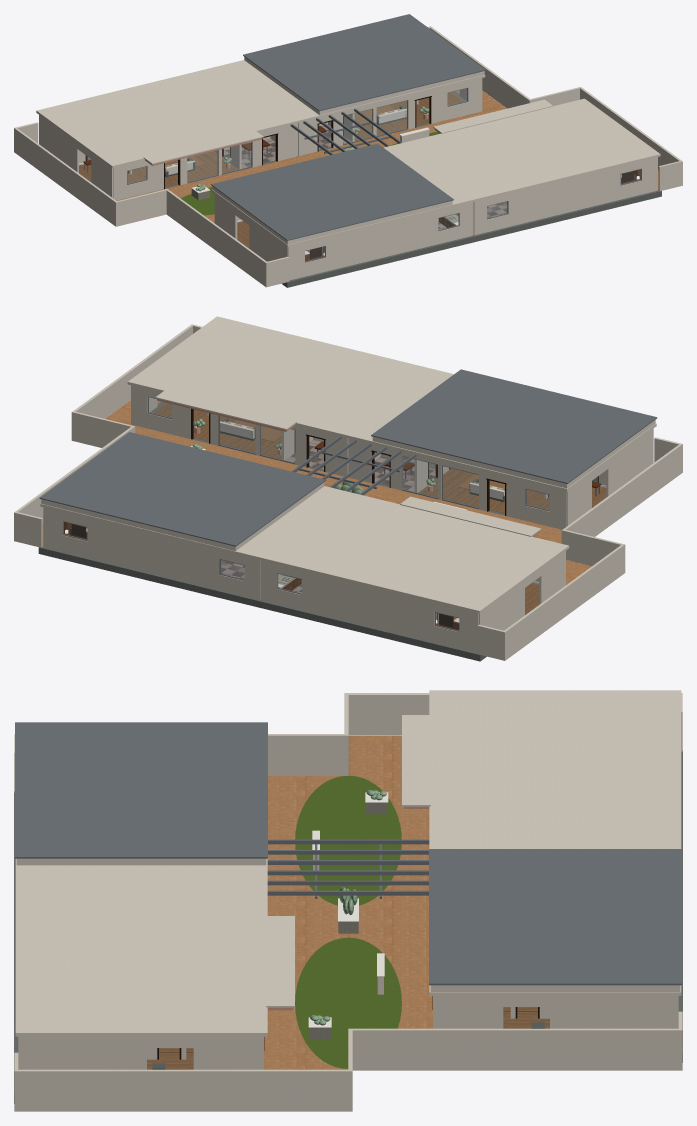
The model's file is casa_atlas_jardin.glb.
The picture shows the model from 3 angles, top to bottom: view 1: azimuth 30°, elevation 25°; view 2: azimuth 150°, elevation 25°; view 3: azimuth 270°, elevation 25°; orthographic projection. The views are drawn at different scales.
Parts seen in each view (by area): view 1: architecture__wall_plaster, architecture__metal_dark, glass__glass, architecture__floor_concrete, architecture__floor_oak, architecture__balcony_stone, architecture__floor_tile, furniture__metal_dark, furniture__wood_dark, garden__grass, furniture__sofa_light, furniture__wood_warm (+1 smaller); view 2: architecture__wall_plaster, architecture__metal_dark, glass__glass, architecture__floor_concrete, architecture__balcony_stone, architecture__floor_oak, architecture__floor_tile, furniture__metal_dark, furniture__wood_dark, furniture__sofa_light, furniture__wood_warm, furniture__rug; view 3: architecture__wall_plaster, architecture__metal_dark, architecture__balcony_stone, garden__grass, architecture__floor_oak, architecture__floor_concrete, details__trim_white, extras__planter_stone.
Part boxes in pixels (x1,y1,x2,y2): architecture__wall_plaster: (14,26,682,287); architecture__metal_dark: (211,14,485,240); glass__glass: (127,88,640,261); architecture__floor_concrete: (80,91,661,287); architecture__floor_oak: (79,92,621,255); architecture__balcony_stone: (116,90,658,222); architecture__floor_tile: (223,124,507,255); furniture__metal_dark: (84,87,641,262); furniture__wood_dark: (85,96,633,258); garden__grass: (181,131,439,215); furniture__sofa_light: (165,108,406,175); furniture__wood_warm: (83,125,640,261); architecture__wall_plaster: (14,316,682,660); architecture__metal_dark: (39,369,657,546); glass__glass: (64,397,549,630); architecture__floor_concrete: (38,401,605,661); architecture__balcony_stone: (42,400,591,584); architecture__floor_oak: (86,403,606,623); architecture__floor_tile: (221,440,438,623); furniture__metal_dark: (62,396,599,631); furniture__wood_dark: (71,409,598,627); furniture__sofa_light: (220,421,504,499); furniture__wood_warm: (64,441,601,630); furniture__rug: (234,420,504,489); architecture__wall_plaster: (14,690,682,1111); architecture__metal_dark: (15,722,681,985); architecture__balcony_stone: (264,735,432,1069); garden__grass: (295,775,401,1068); architecture__floor_oak: (147,1007,549,1069); architecture__floor_concrete: (14,751,682,1103); details__trim_white: (308,792,388,1027); extras__planter_stone: (309,803,387,1039).
Bounding box in the file's own units: 44.36 × 4.31 × 33.16.
27 materials, 14 textured.
